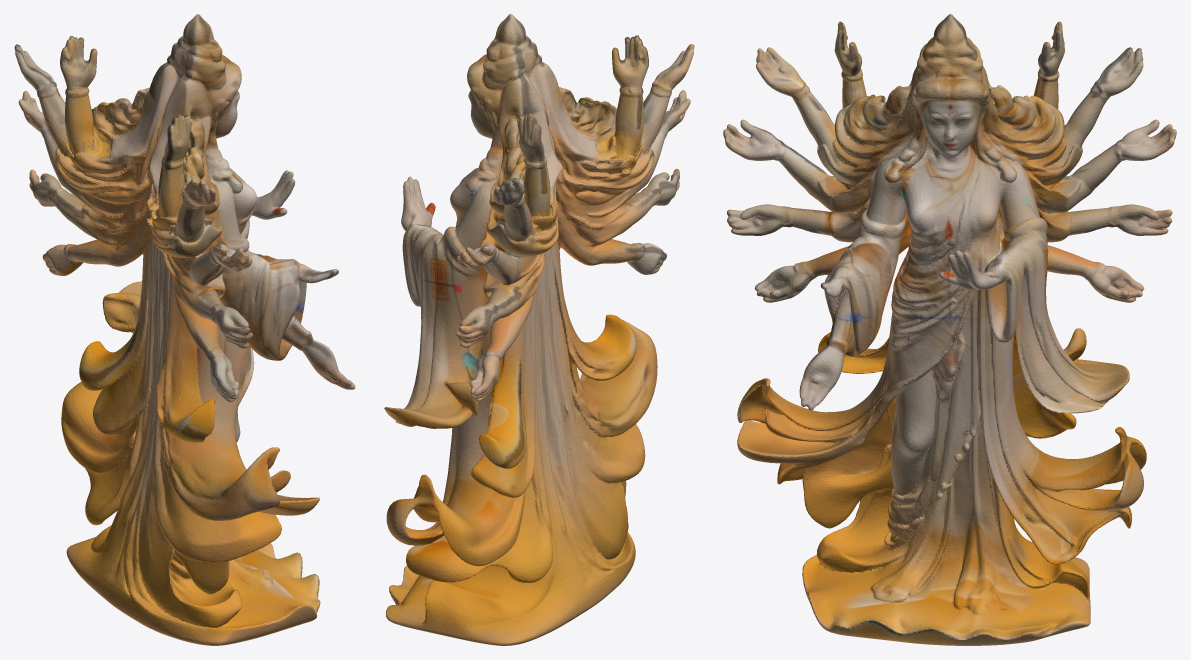
The model's file is modelo30.glb.
The picture shows the model from 3 angles, left to right: view 1: azimuth 30°, elevation 25°; view 2: azimuth 150°, elevation 25°; view 3: azimuth 270°, elevation 25°; orthographic projection. The views are drawn at different scales.
Visible parts, largest first — view 1: tripo_node_4b219998-c6ab-4e29-8de6-6ab9c61af2bb; view 2: tripo_node_4b219998-c6ab-4e29-8de6-6ab9c61af2bb; view 3: tripo_node_4b219998-c6ab-4e29-8de6-6ab9c61af2bb.
Boxes of the visible parts, <box> form: tripo_node_4b219998-c6ab-4e29-8de6-6ab9c61af2bb: <box>14,14,355,645</box>; tripo_node_4b219998-c6ab-4e29-8de6-6ab9c61af2bb: <box>384,14,694,645</box>; tripo_node_4b219998-c6ab-4e29-8de6-6ab9c61af2bb: <box>723,14,1176,645</box>.
Size of the model in its own units: 0.347 by 1 by 0.686.
1 material, 1 textured.
